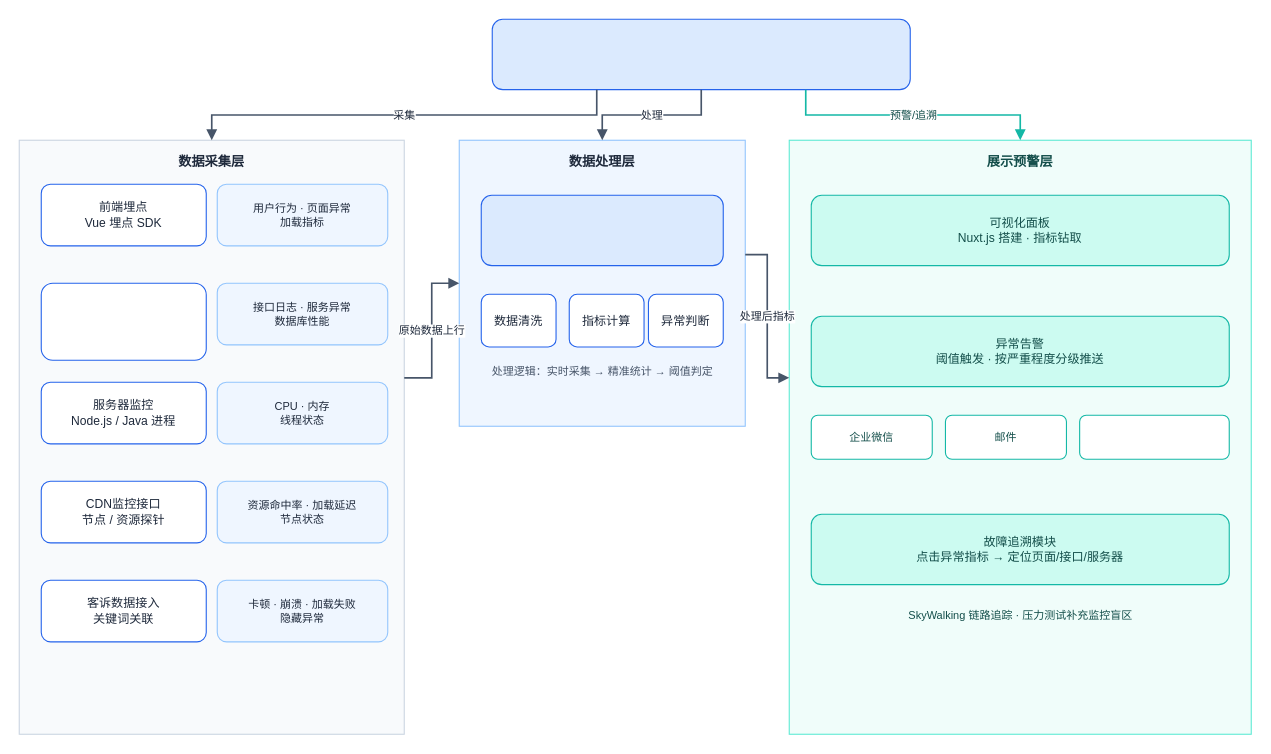
Some shapes in this 1271 by 754 pixel diagram are drawn without their labels. The shapes that lost their labels are listed below. From the top down, each one's centre as x and y in pixels, then its label:
the point at 700,54: 统一监控平台 (指标可视化 · 异常预警 · 故障追溯)
the point at 601,230: Egg.js 数据聚合 (BFF 层)
the point at 123,321: 后端日志上报 SpringBoot + Logback
the point at 1154,436: 值班负责人
